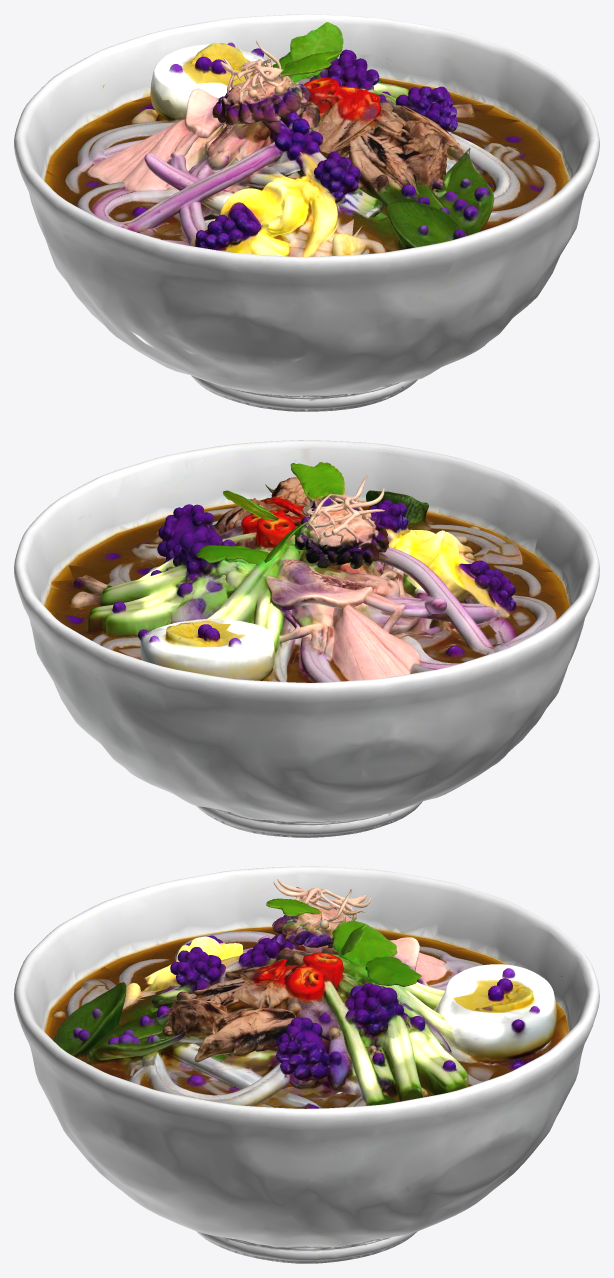
The model's file is Laksa.glb.
The picture shows the model from 3 angles, top to bottom: view 1: azimuth 30°, elevation 25°; view 2: azimuth 150°, elevation 25°; view 3: azimuth 270°, elevation 25°; orthographic projection.
Parts seen in each view (by area): view 1: Mesh_0; view 2: Mesh_0; view 3: Mesh_0.
Part boxes in pixels (box(x1,y1,x2,y2)): Mesh_0: box(14, 14, 599, 411); Mesh_0: box(14, 440, 599, 837); Mesh_0: box(14, 866, 599, 1263).
Bounding box in the file's own units: 1.9 × 1.11 × 1.9.
1 material, 1 textured.
